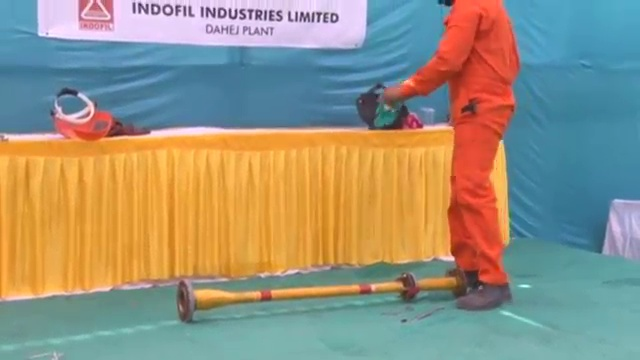person: (387, 1, 521, 313)
